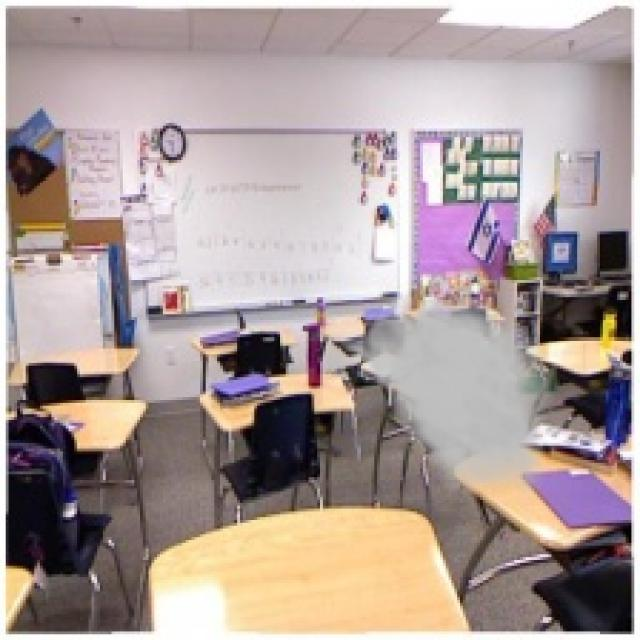smoke: (317, 286, 557, 506)
